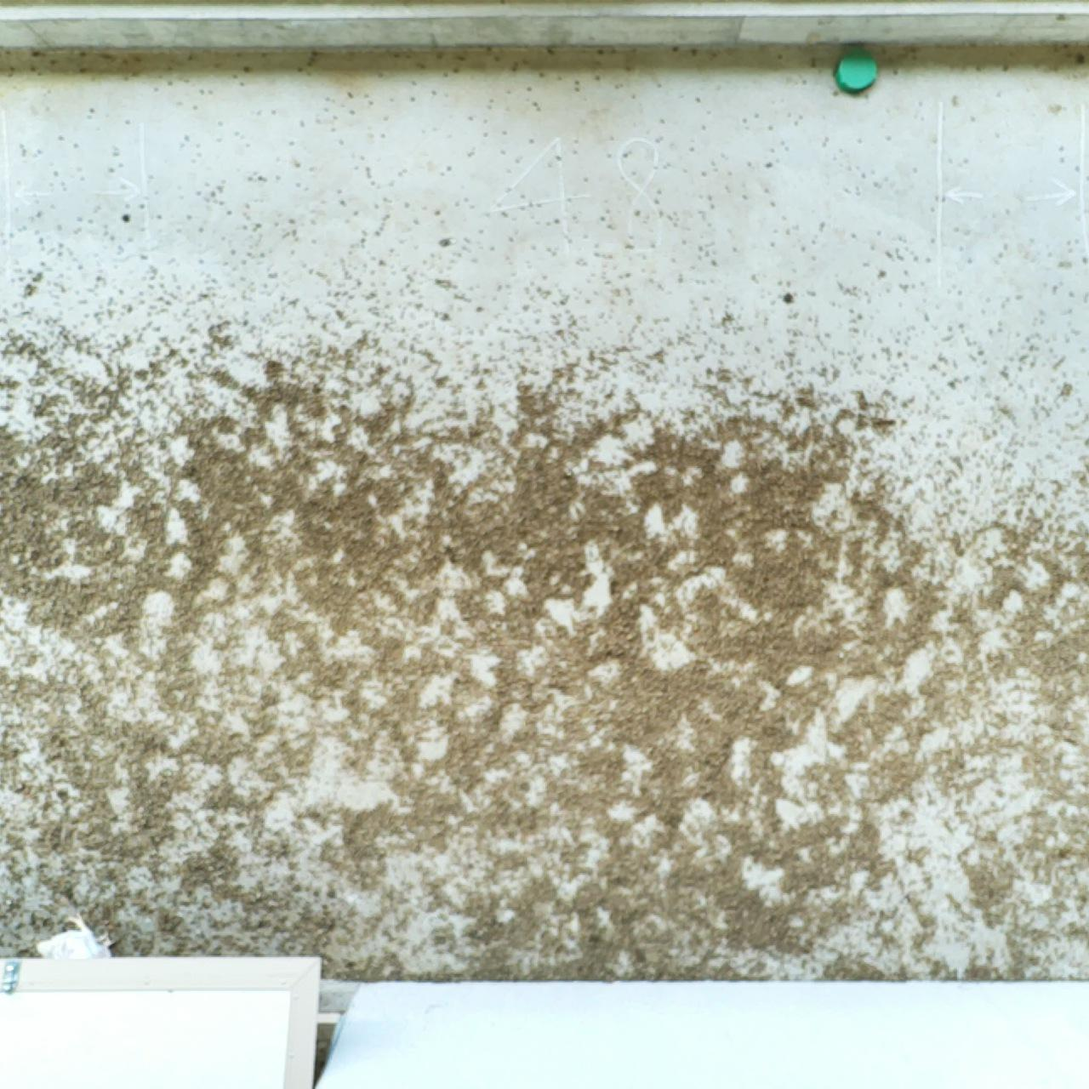chicken: (33, 912, 119, 969)
